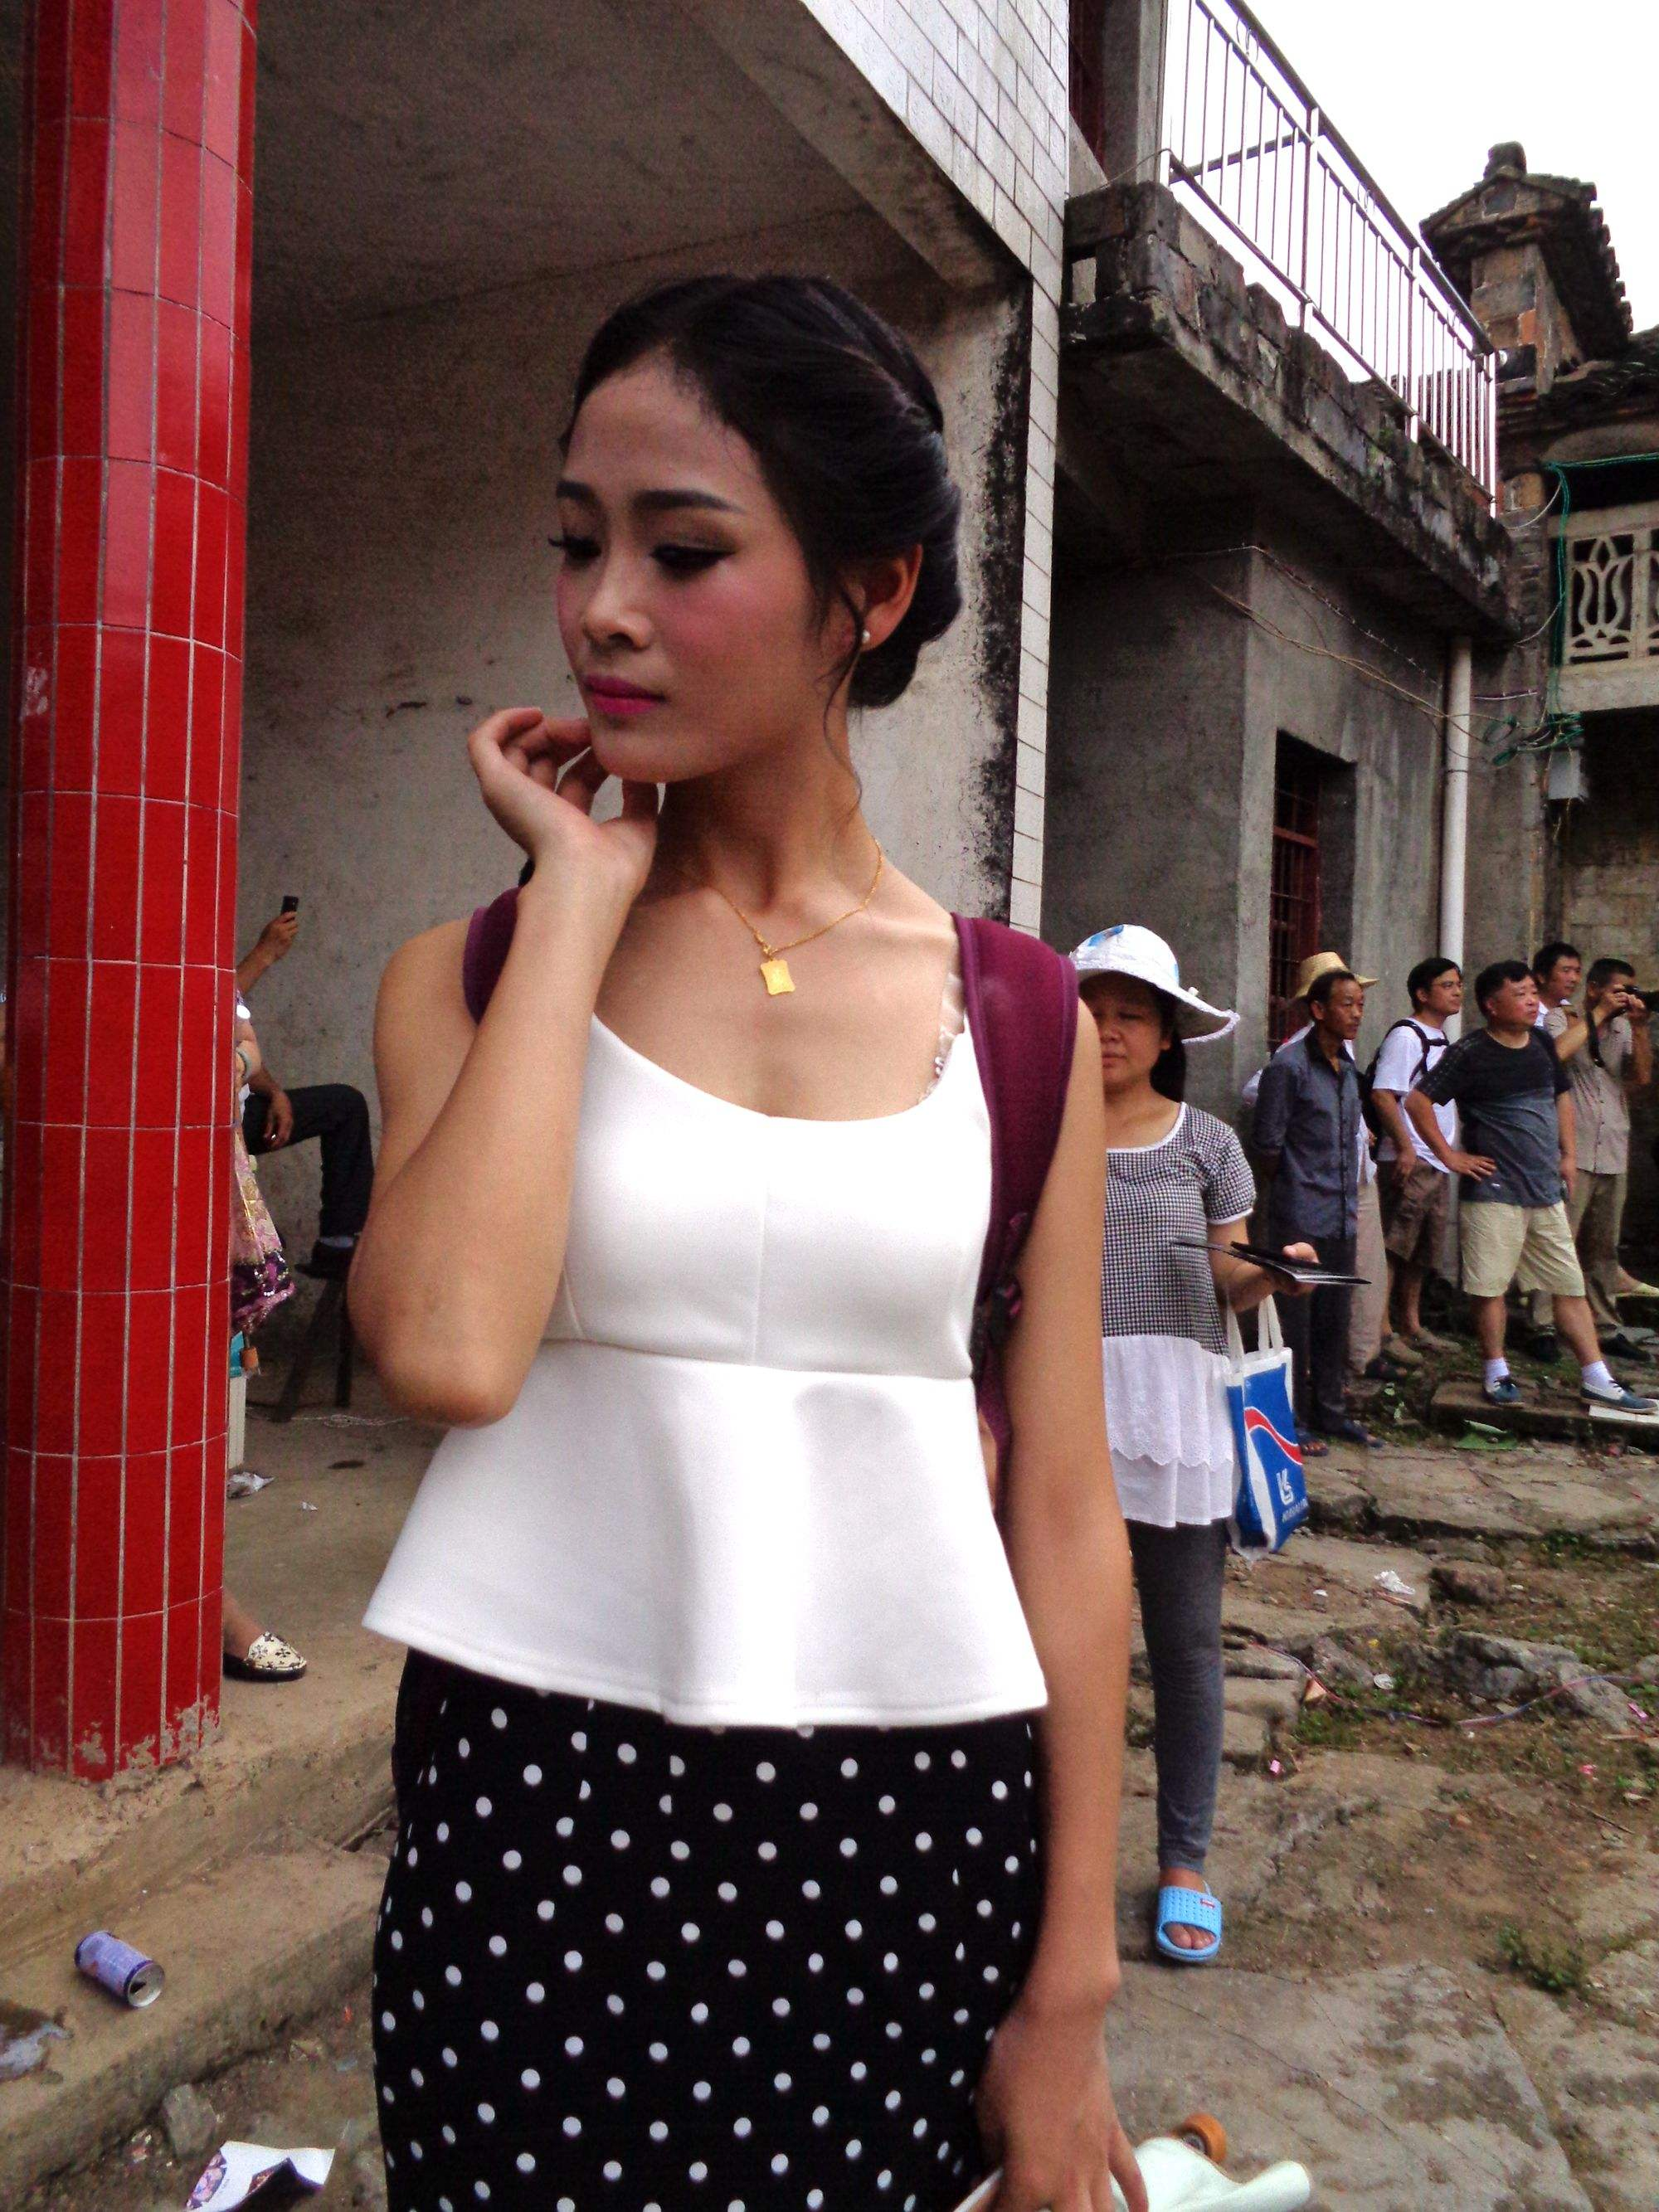person: (356, 272, 1197, 1686)
